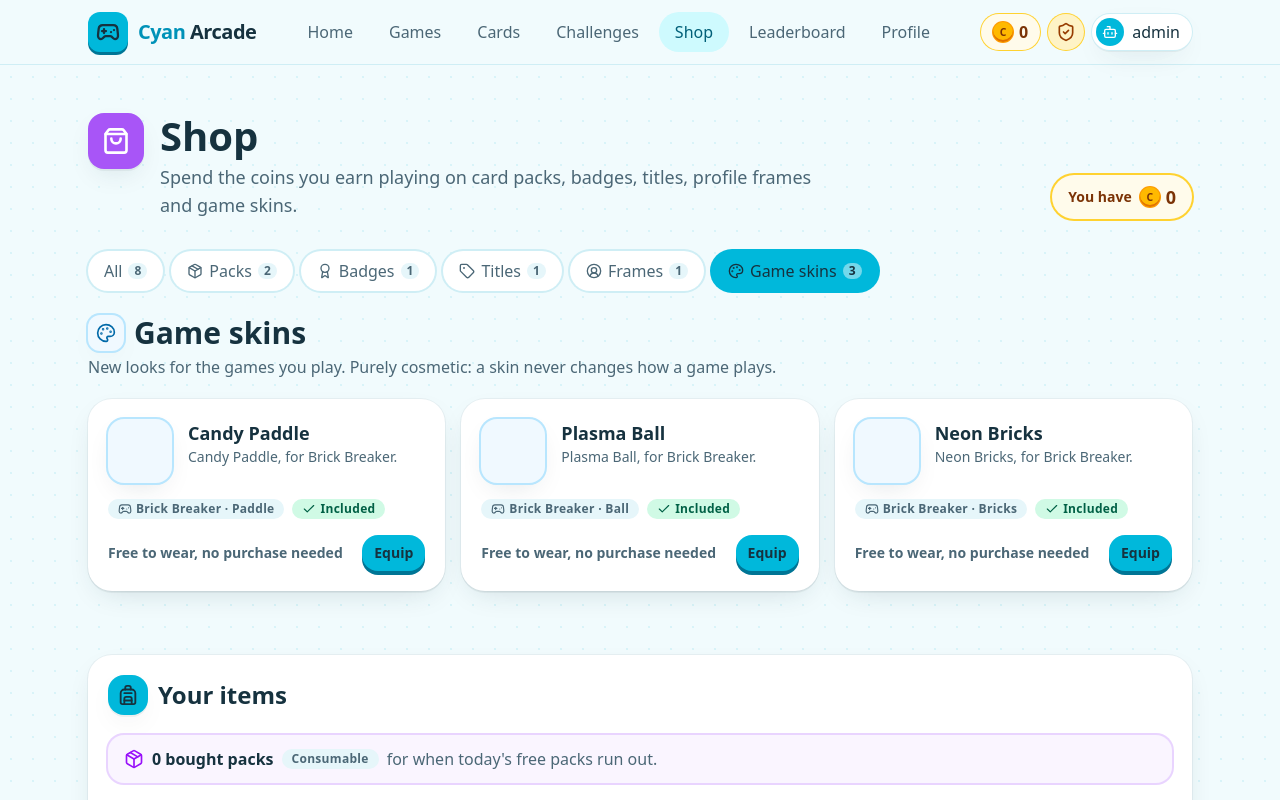
Test: Brick Breaker skins for an admin › show as included in the shop, to equip instead of buy
Expected: the text "Included" next to "Brick Breaker · Ball" is shown, [675,500,730,517]
Click the button with aria-label "Equip Plasma Ball" at {"x": 767, "y": 553}, box [736,535,799,571]
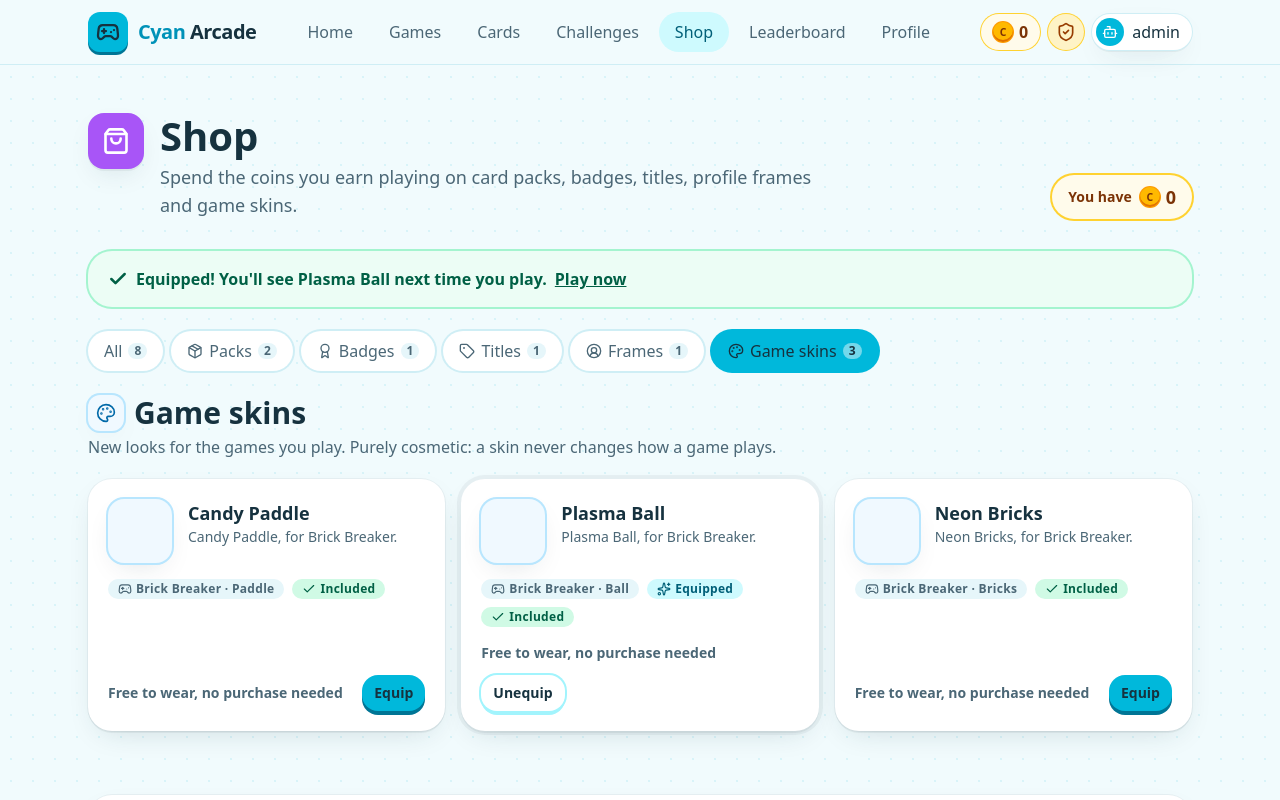
Now the button with aria-label "Unequip Plasma Ball" is shown, box [481,675,565,711]
